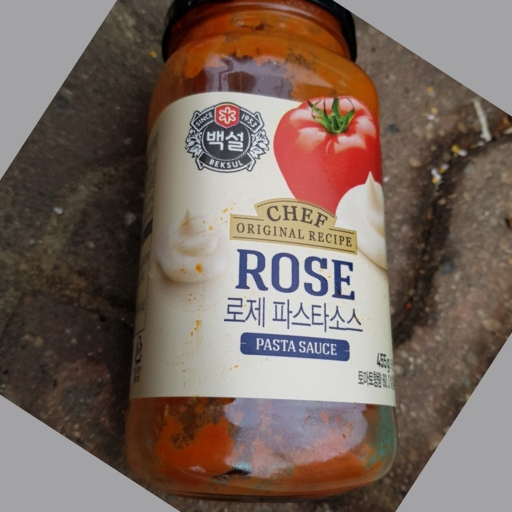Glass_5: (123, 3, 402, 495)
